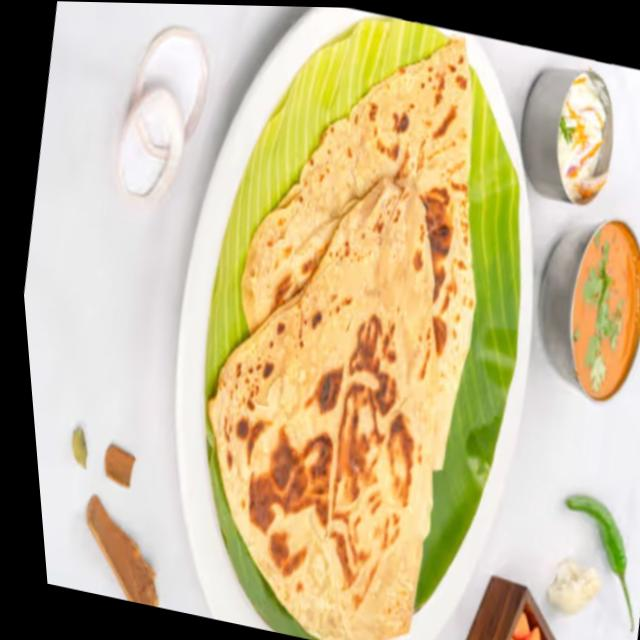CHAPATHI: (207, 44, 478, 640)
CURD: (559, 75, 604, 199)
CURRY: (570, 226, 637, 399)
